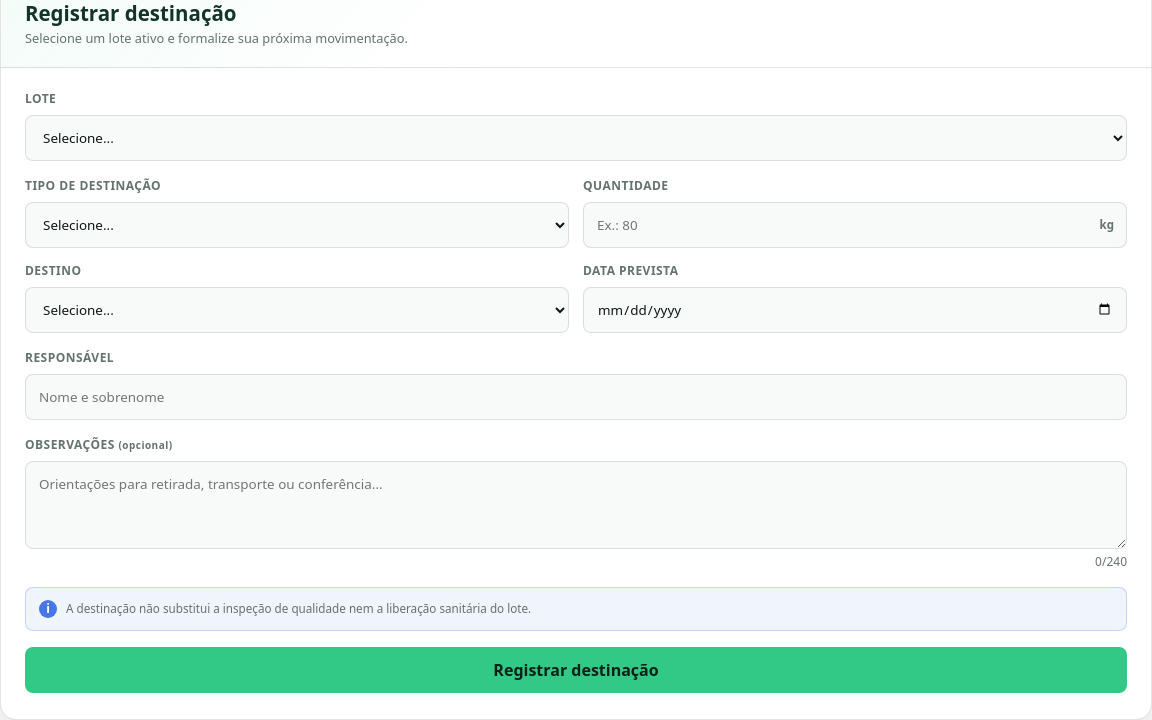
Test: DestinationForm › descreve os erros e foca o primeiro campo inválido
(page scrolled)
Click the button "Registrar destinação" at (576, 670), box x1=25 y1=647 x2=1127 y2=693
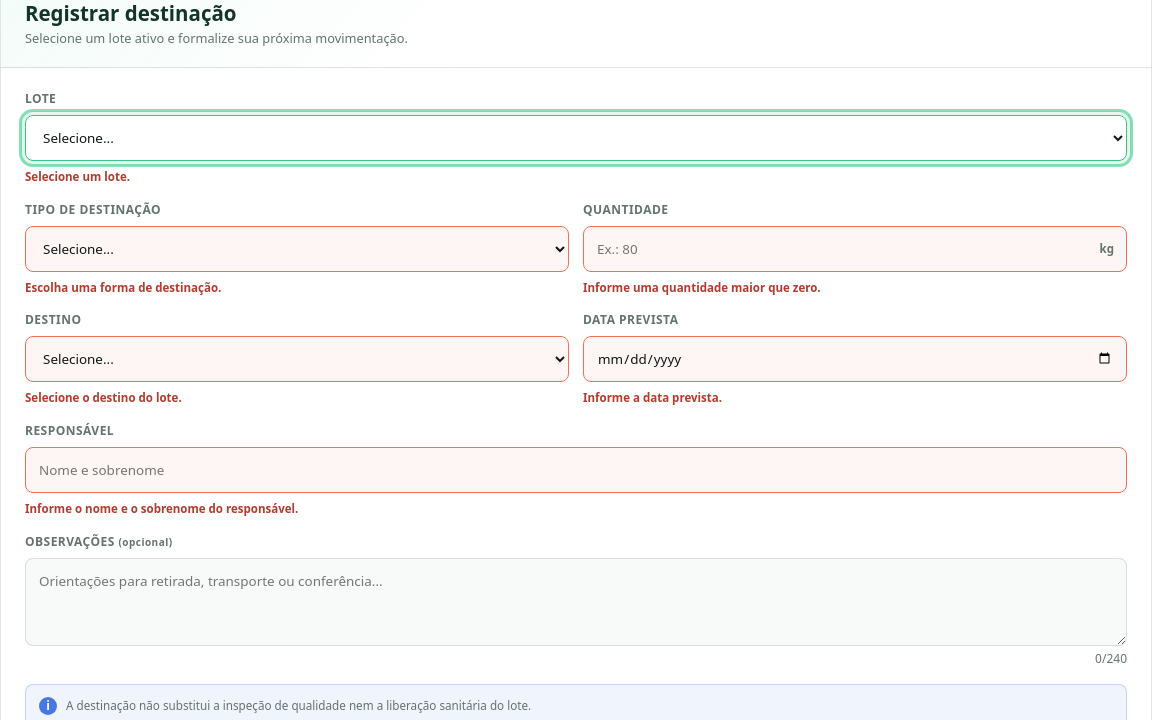
Expected: the text "Selecione um lote." is shown, x1=25 y1=169 x2=130 y2=184
Expected: the text "Escolha uma forma de destinação." is shown, x1=25 y1=280 x2=221 y2=295
Expected: the text "Informe uma quantidade maior que zero." is shown, x1=583 y1=280 x2=821 y2=295
